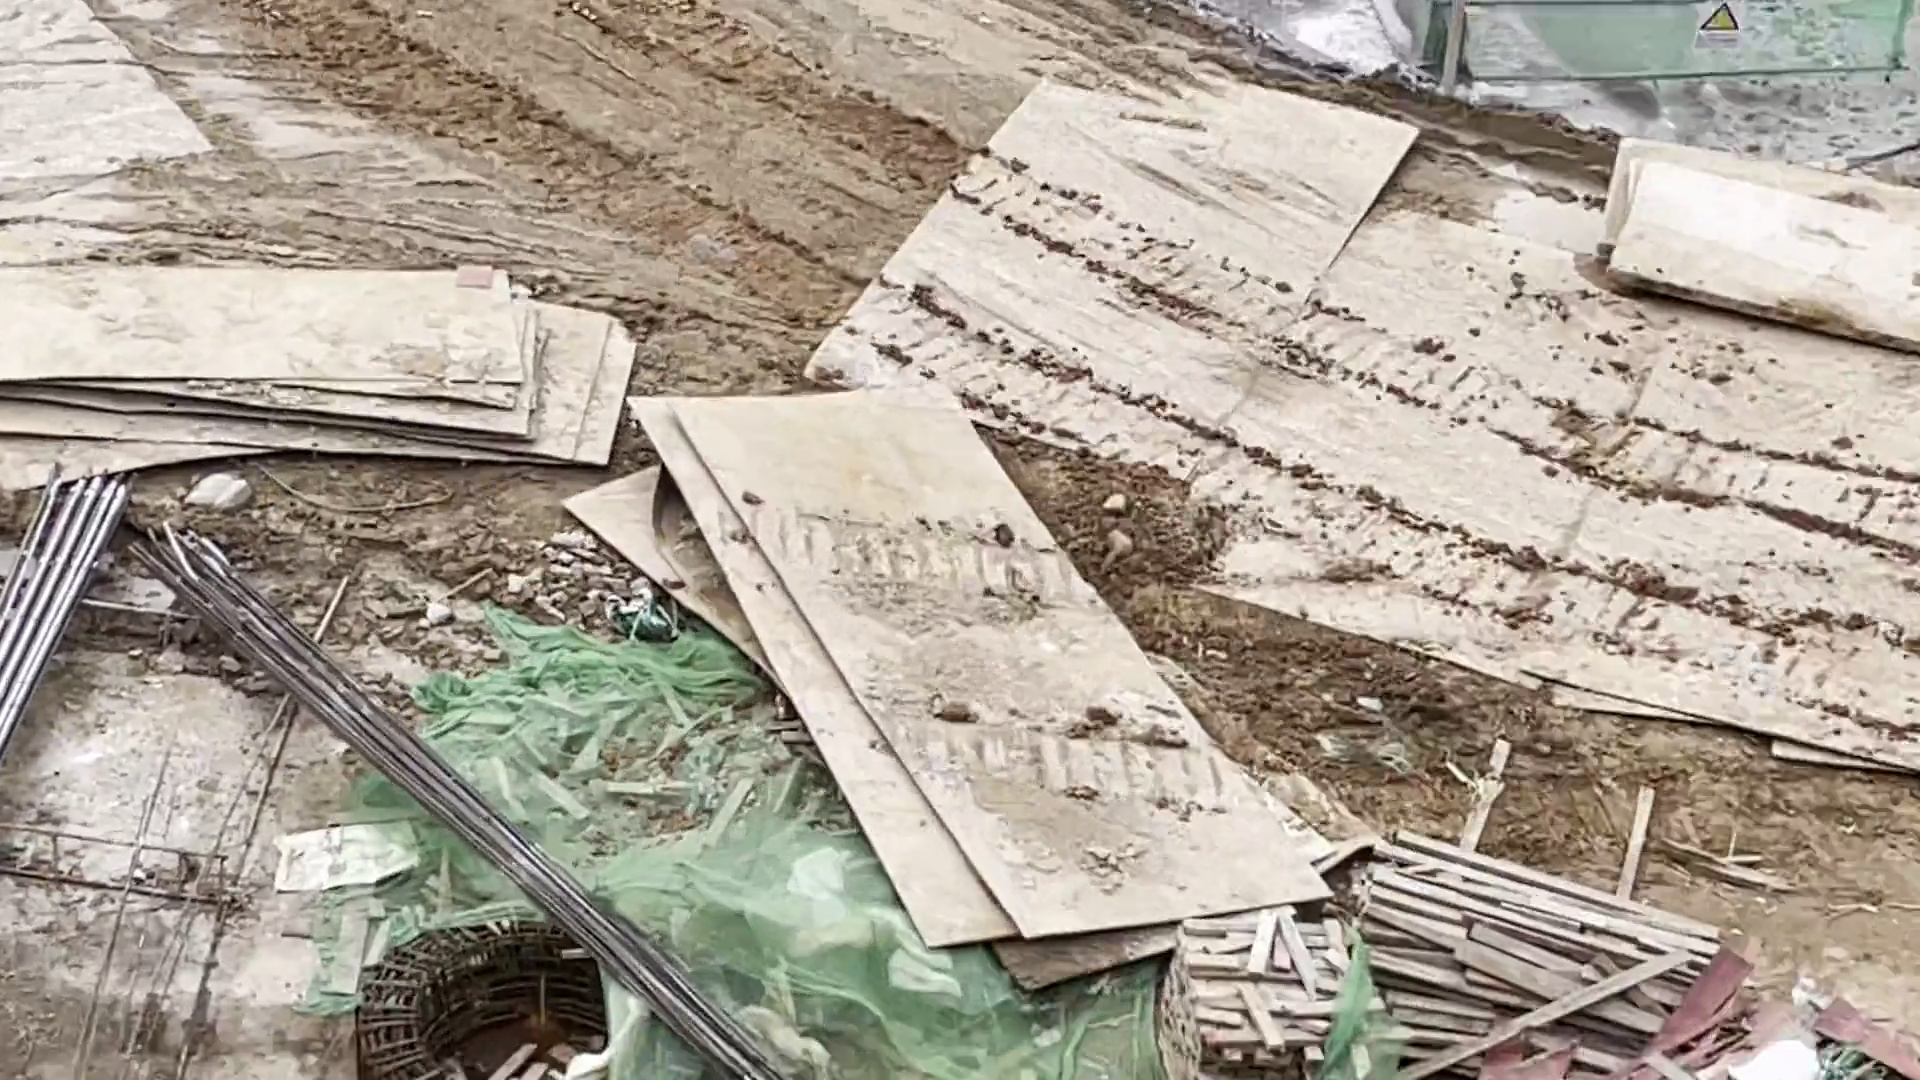wood: (1180, 833, 1695, 1080)
